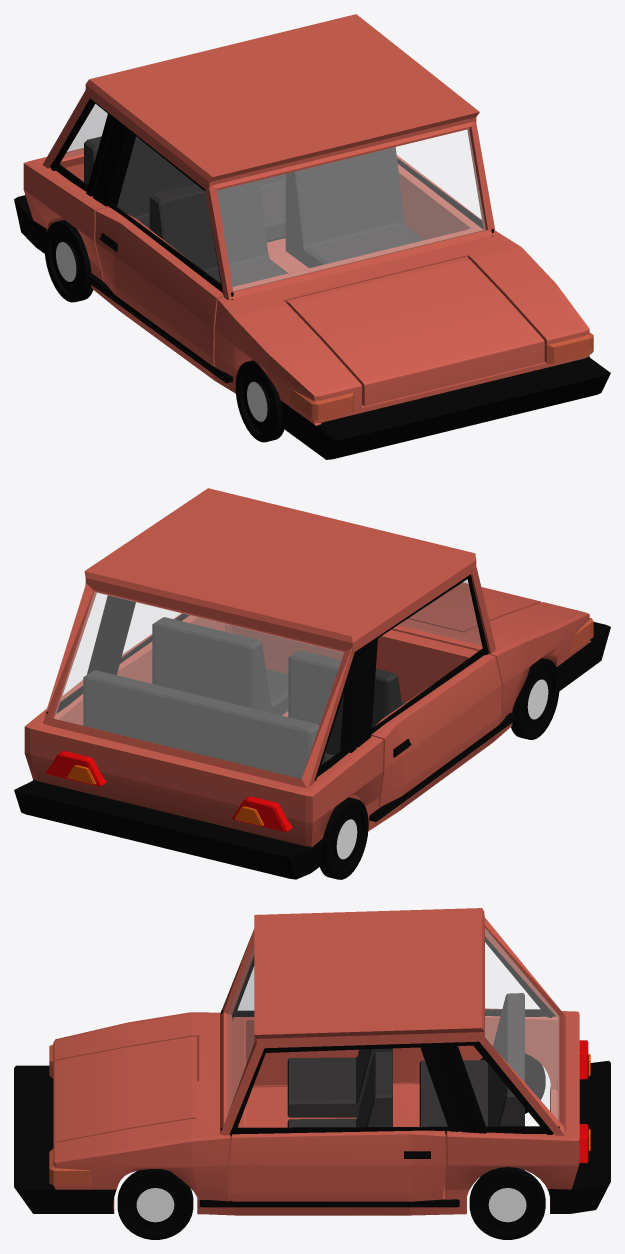
File: cochecito.glb
3 renders of one model, top to bottom at view 1: azimuth 30°, elevation 25°; view 2: azimuth 150°, elevation 25°; view 3: azimuth 270°, elevation 25°, orthographic. The views are drawn at different scales.
Visible parts, largest first — view 1: Cube_0, Cube.002_1, Plane.001_9, Cube.009_4, Cube.004_5, Cylinder_10, Cube.001_2, Cylinder.001_11; view 2: Cube_0, Cube.002_1, Plane.001_9, Cube.009_4, Cube.004_5, Cylinder_10, Cube.003_3, Cylinder.001_11, Cube.006_8; view 3: Cube_0, Cube.002_1, Cube.004_5, Cube.009_4, Plane.001_9, Cylinder_10, Cylinder.001_11, Cube.001_2, Cube.003_3.
Boxes of the visible parts, x1,y1,x2,y2 form: Cube_0: (23,148,589,425); Cube.002_1: (42,14,495,299); Plane.001_9: (63,104,485,291); Cube.009_4: (84,136,423,286); Cube.004_5: (14,98,610,459); Cylinder_10: (44,220,284,442); Cube.001_2: (289,332,593,420); Cylinder.001_11: (56,242,267,421); Cube_0: (24,582,591,847); Cube.002_1: (42,488,495,787); Plane.001_9: (54,579,481,778); Cube.009_4: (83,617,404,778); Cube.004_5: (14,574,610,879); Cylinder_10: (320,658,559,879); Cube.003_3: (46,751,292,832); Cylinder.001_11: (336,679,548,859); Cube.006_8: (67,765,263,825); Cube_0: (53,1008,579,1215); Cube.002_1: (220,908,565,1135); Cube.004_5: (14,936,610,1213); Cube.009_4: (287,993,524,1177); Plane.001_9: (227,928,558,1120); Cylinder_10: (117,1053,545,1239); Cylinder.001_11: (136,1188,526,1222); Cube.001_2: (49,1044,91,1185); Cube.003_3: (579,1040,588,1162).
Bounding box in the file's own units: 2.61 × 1.91 × 4.93.
